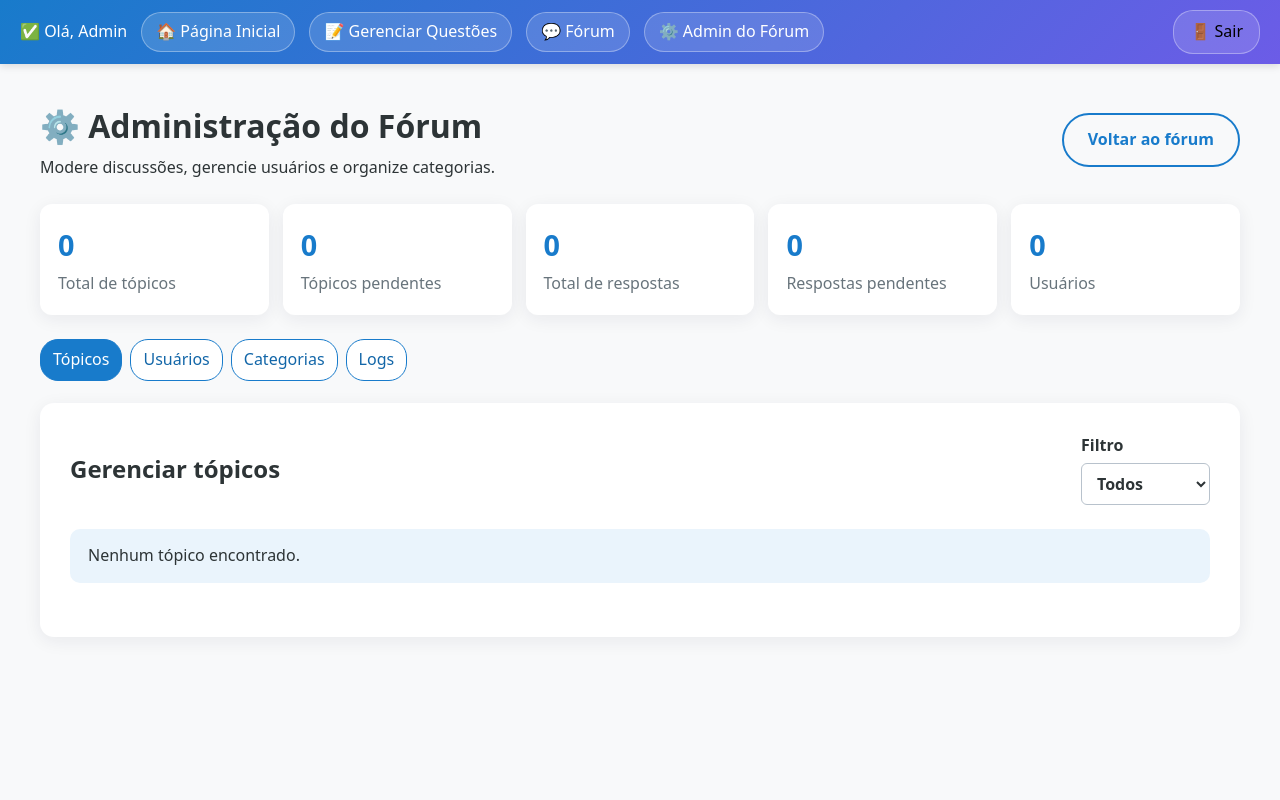
forum pages › renders admin empty states and posts new categories with the CSRF token
Check: the text "Total de tópicos" is shown, box [58,272,176,294]
Click the button "Categorias". click: (284, 360)
box: [231,339,338,381]
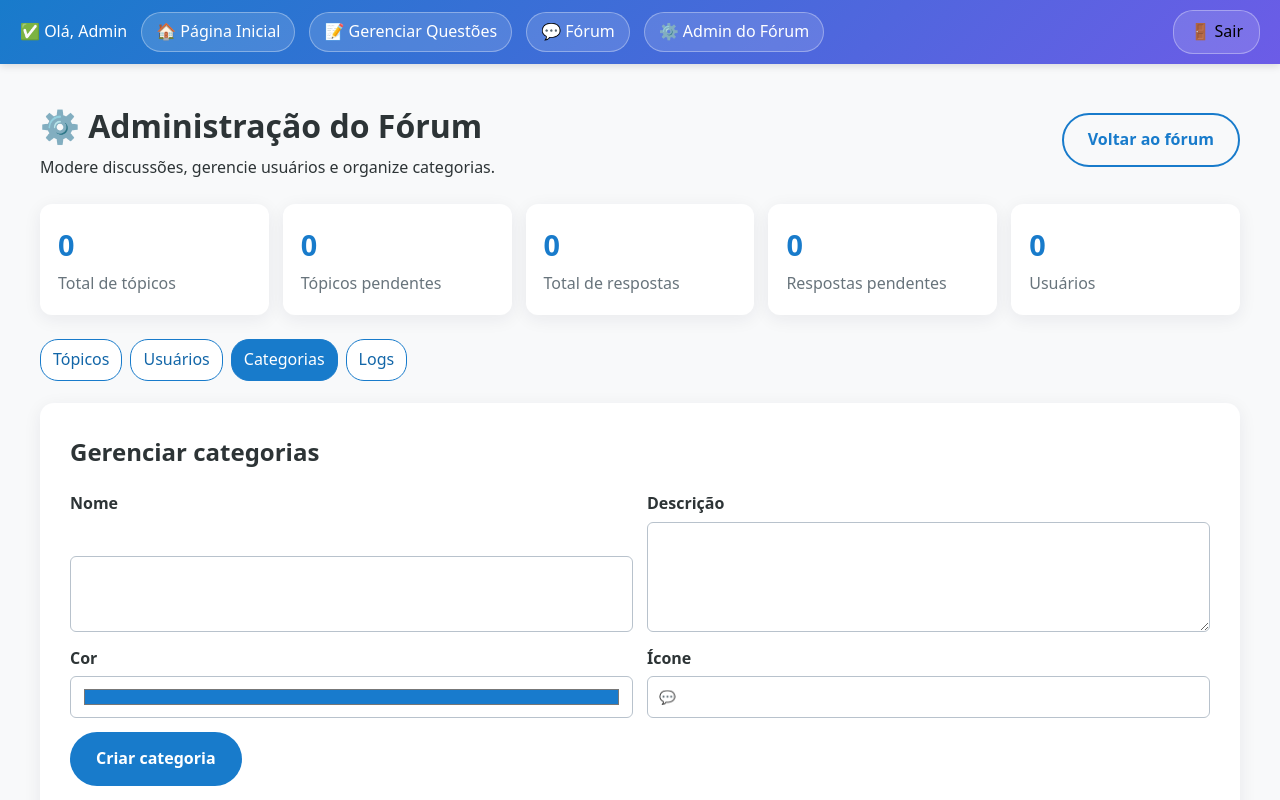
Type "Educação" into the field labelled "Nome". click: (352, 594)
box: [70,556,633,632]
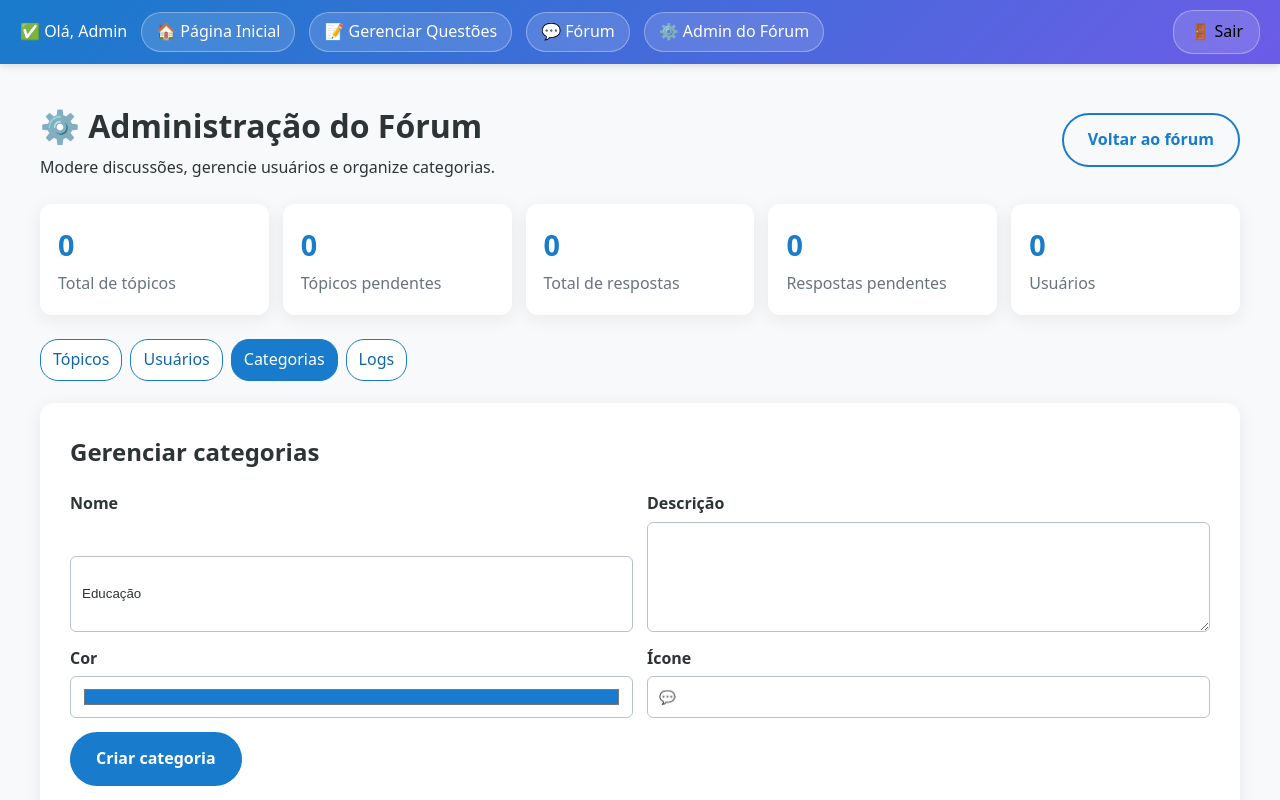
Submit the form "Criar categoria", box [70,491,1210,786]
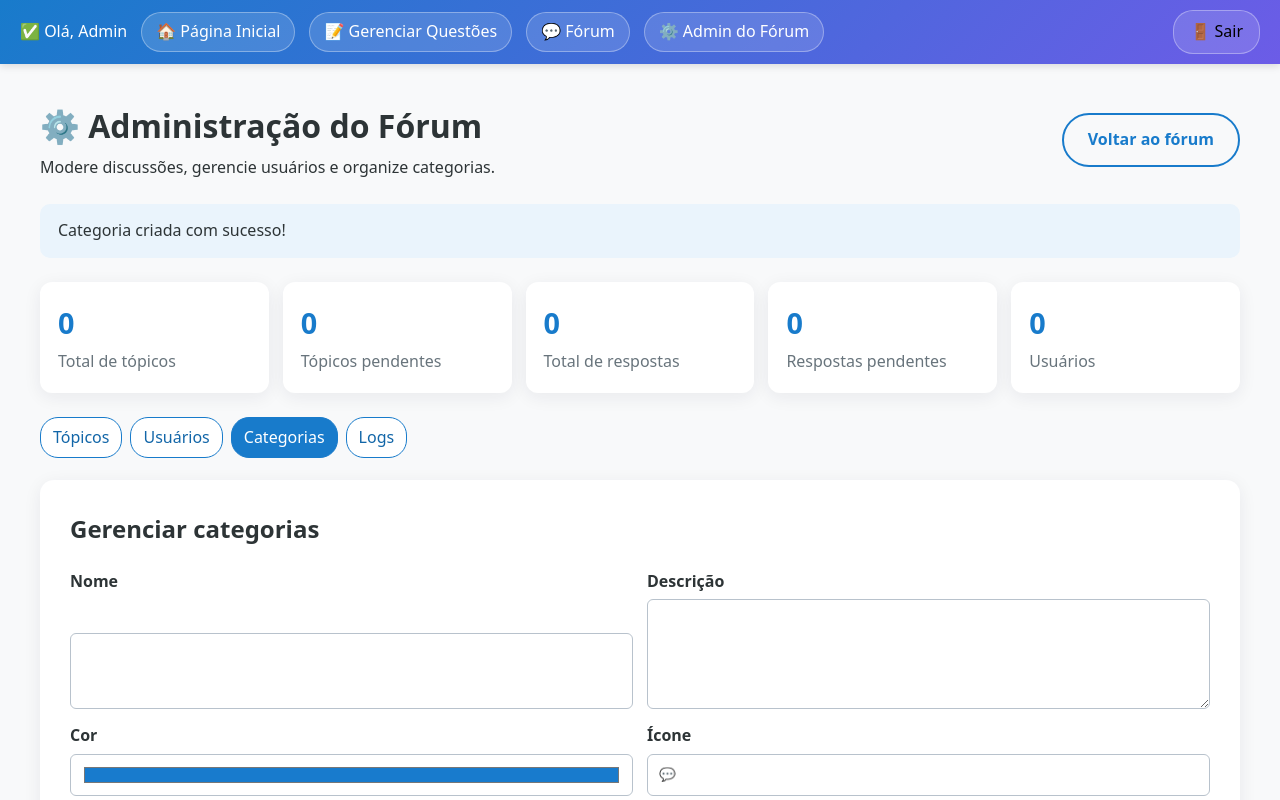
Check: the text "Categoria criada com sucesso!" is shown, box [40,204,1240,258]
